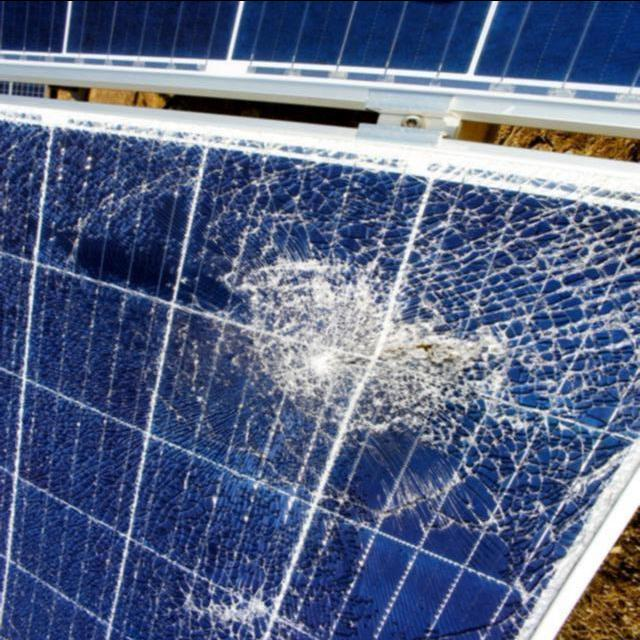cracked: (2, 98, 640, 640)
